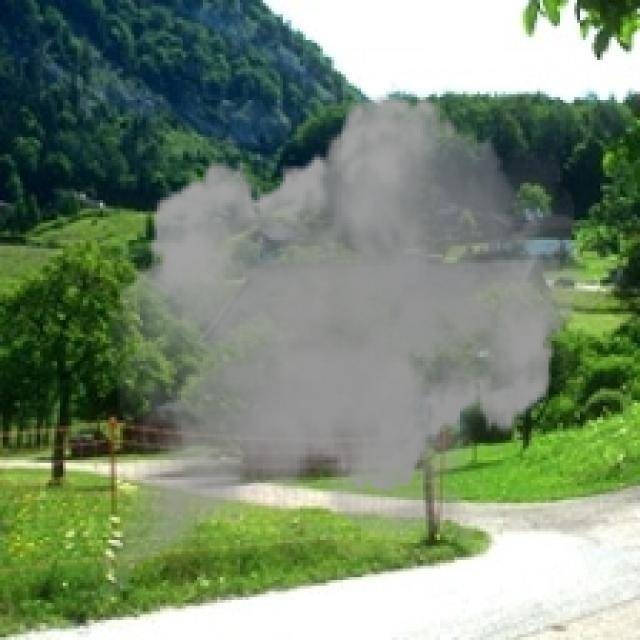smoke: (89, 80, 612, 634)
